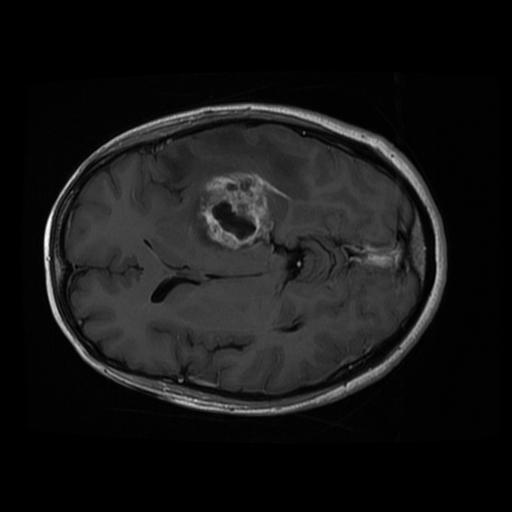glioma: (196, 168, 289, 255)
